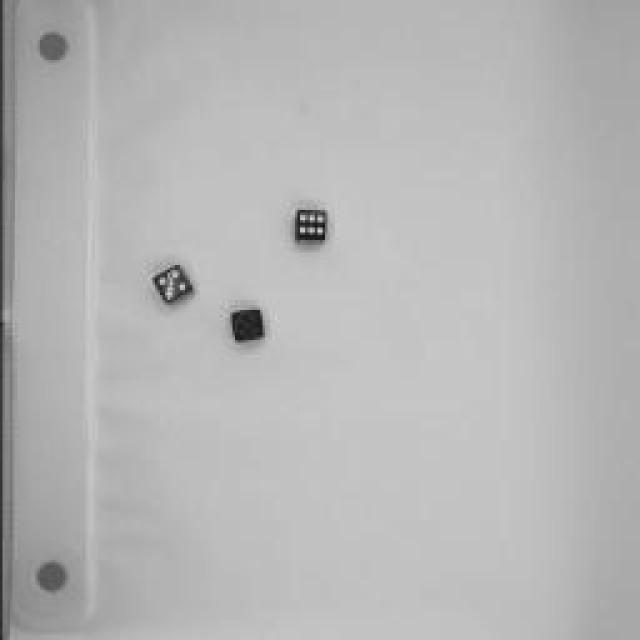dice_4: (144, 259, 196, 309)
dice_5: (221, 302, 269, 348)
dice_6: (285, 202, 333, 250)
